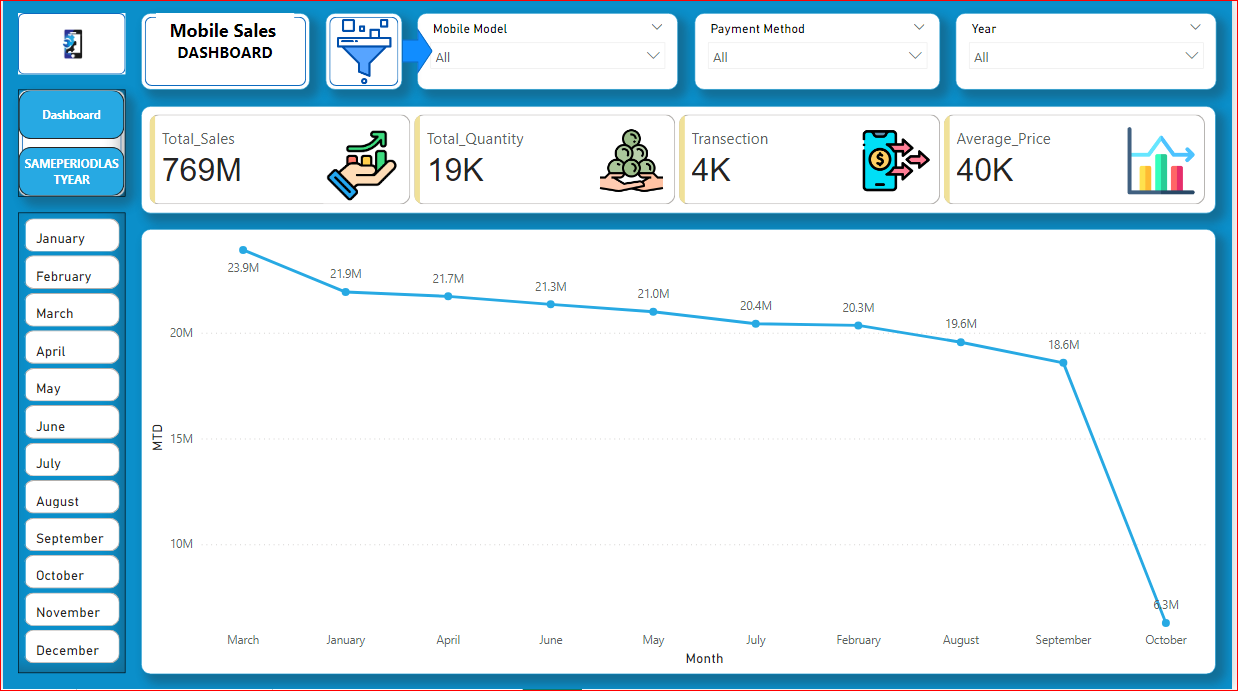

This screenshot's page, from the dashboard's own definition file:
{"tool":"powerbi","page":{"name":"MTD_Dashboard","canvas":[1280,720],"ordinal":1},"visuals":[{"type":"shape","box":[16,16,112,64],"z":0},{"type":"image","box":[0,16,144,64],"z":1000},{"type":"shape","box":[16,96,112,112],"z":2000},{"type":"cardVisual","fields":{"Data":["Sales_Data.Total_Sales","Sales_Data.Total_Quantity","Sales_Data.Transection","Sales_Data.Average_Price"]},"box":[144,112,1120,112],"z":4000},{"type":"slicer","fields":{"Values":["Sales_Data.Mobile Model"]},"box":[432,16,272,80],"z":5000},{"type":"slicer","fields":{"Values":["Sales_Data.Payment Method"]},"box":[720,16,256,80],"z":6000},{"type":"slicer","fields":{"Values":["Custom_Calender.Date.Variation.Date Hierarchy.Year"]},"box":[992,16,272,80],"z":7000},{"type":"shape","box":[336,16,80,80],"z":8000},{"type":"image","box":[336,16,80,80],"z":9000},{"type":"shape","box":[416,32,32,48],"z":10000},{"type":"shape","box":[144,16,176,80],"z":11000},{"type":"textbox","box":[160,16,144,64],"z":12000},{"type":"lineChart","fields":{"Y":["Sales_Data.MTD"],"Category":["Custom_Calender.Date.Variation.Date Hierarchy.Year","Custom_Calender.Date.Variation.Date Hierarchy.Quarter","Custom_Calender.Date.Variation.Date Hierarchy.Month","Custom_Calender.Date.Variation.Date Hierarchy.Day"]},"box":[144,240,1120,464],"z":12001},{"type":"advancedSlicerVisual","fields":{"Values":["Custom_Calender.Date.Variation.Date Hierarchy.Month"]},"box":[16,224,112,480],"z":12002},{"type":"pageNavigator","box":[16,96,112,112],"z":12003}]}

Visuals, with their boxes in screenshot pixels (x1, y1, x2, y2), scaled from the page's 1280x720 canvas onto the 1238x691 screenshot:
shape: BBox(15, 15, 124, 77)
image: BBox(0, 15, 139, 77)
shape: BBox(15, 92, 124, 200)
cardVisual - Sales_Data.Total_Sales x Sales_Data.Total_Quantity: BBox(139, 107, 1223, 215)
slicer - Sales_Data.Mobile Model: BBox(418, 15, 681, 92)
slicer - Sales_Data.Payment Method: BBox(696, 15, 944, 92)
slicer - Custom_Calender.Date.Variation.Date Hierarchy.Year: BBox(959, 15, 1223, 92)
shape: BBox(325, 15, 402, 92)
image: BBox(325, 15, 402, 92)
shape: BBox(402, 31, 433, 77)
shape: BBox(139, 15, 310, 92)
textbox: BBox(155, 15, 294, 77)
lineChart - Sales_Data.MTD x Custom_Calender.Date.Variation.Date Hierarchy.Year: BBox(139, 230, 1223, 676)
advancedSlicerVisual - Custom_Calender.Date.Variation.Date Hierarchy.Month: BBox(15, 215, 124, 676)
pageNavigator: BBox(15, 92, 124, 200)
